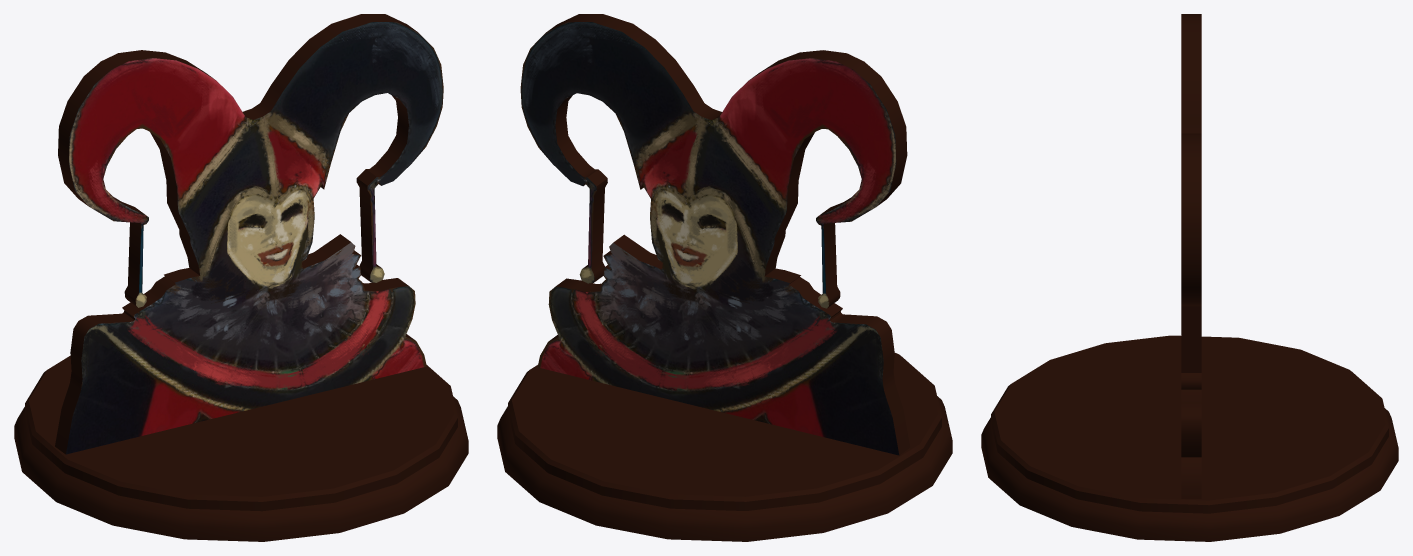
File: Character_Jester_v1.FBX
3 renders of one model, left to right at view 1: azimuth 30°, elevation 25°; view 2: azimuth 150°, elevation 25°; view 3: azimuth 270°, elevation 25°, orthographic. The views are drawn at different scales.
Parts seen in each view (by area): view 1: Cylinder001; view 2: Cylinder001; view 3: Cylinder001.
Boxes of the visible parts, left/top/right/bottom form: Cylinder001: left=14, top=14, right=468, bottom=541; Cylinder001: left=497, top=14, right=952, bottom=541; Cylinder001: left=981, top=14, right=1398, bottom=541.
Bounding box in the file's own units: 56.18 × 56.82 × 56.08.
